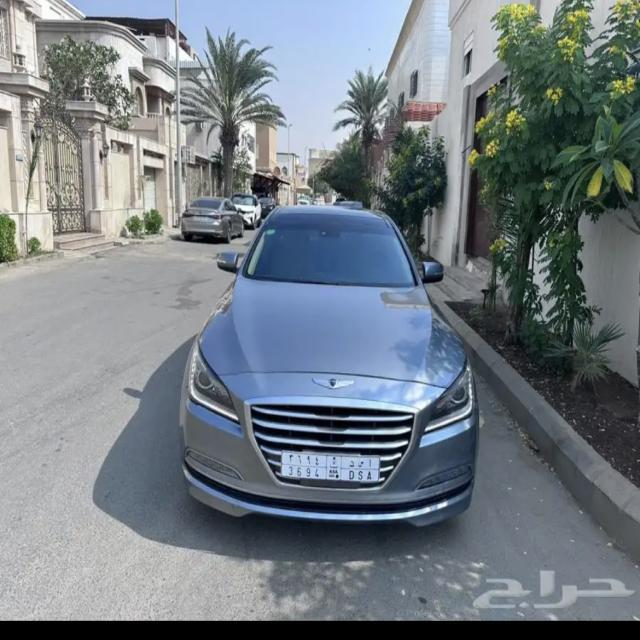license_plate: (282, 449, 379, 484)
